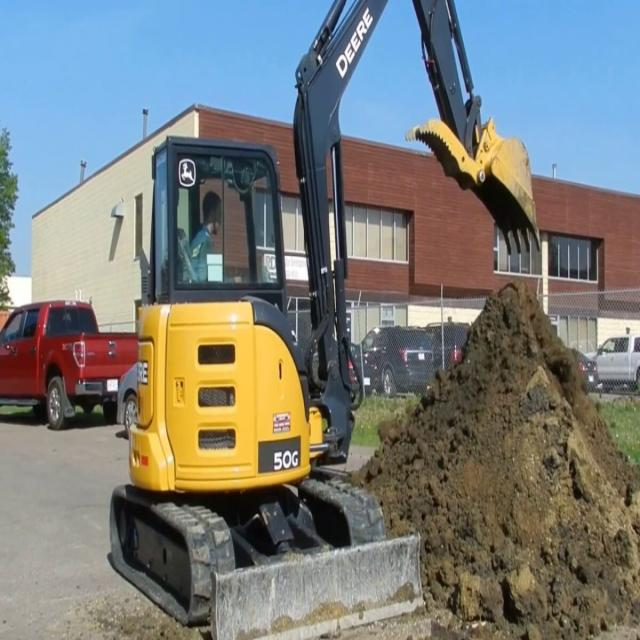excavator: (116, 3, 560, 635)
light_vehicle: (1, 289, 138, 462)
